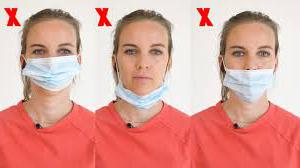mask_weared_incorrect: (114, 40, 169, 103), (224, 43, 275, 97)
with_mask: (26, 42, 76, 87)
